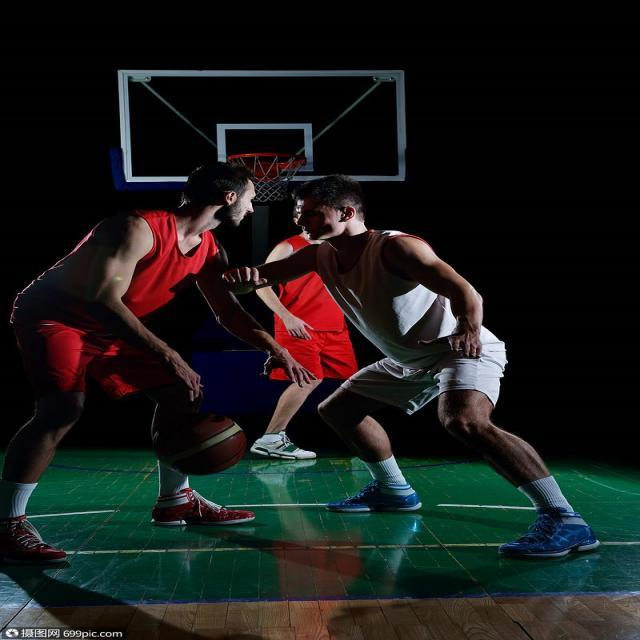rim: (154, 412, 246, 474)
